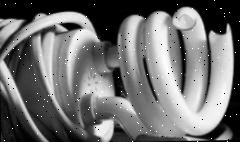lightbulb: (0, 5, 235, 142), (0, 10, 120, 142)
